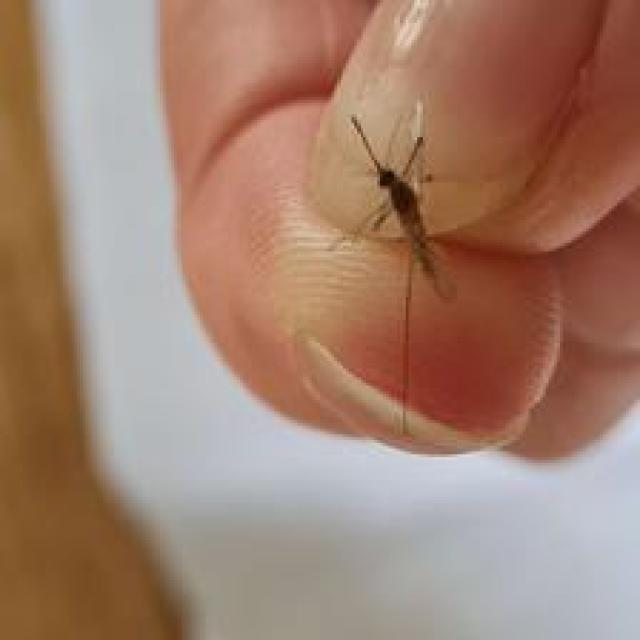Culex: (346, 106, 457, 303)
